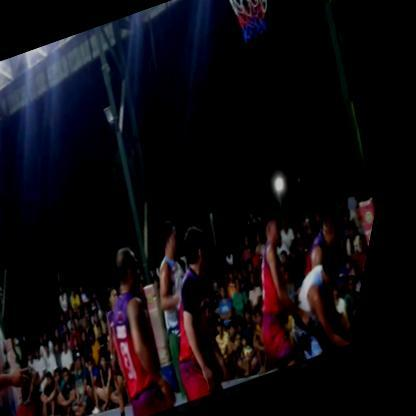rim: (206, 0, 291, 59)
